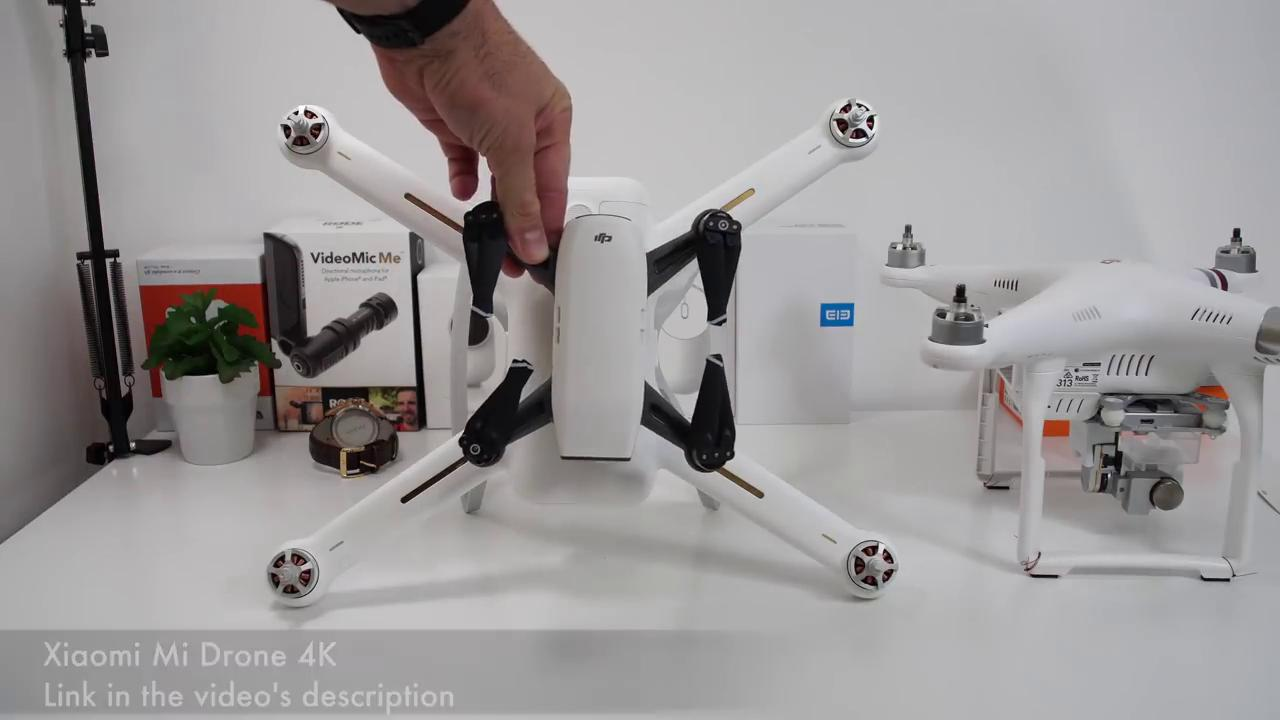drone: (250, 74, 926, 608), (868, 195, 1280, 398)
